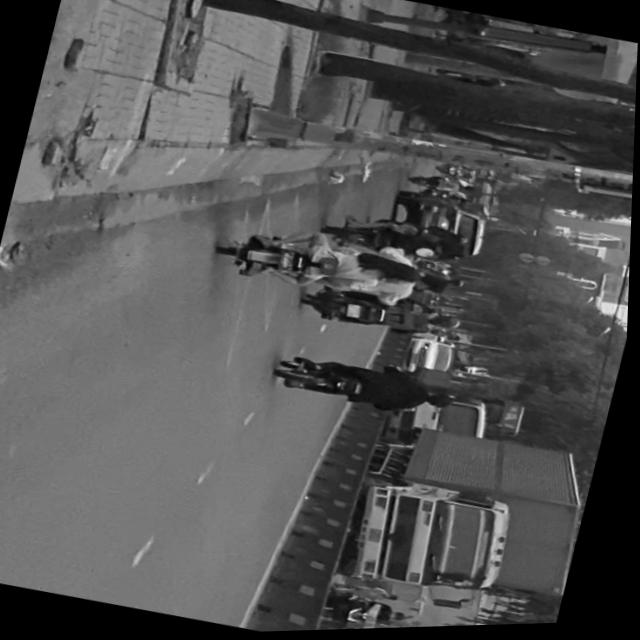licenseplate: (214, 206, 465, 328)
motorcyclist: (364, 253, 429, 291), (415, 270, 455, 301)
